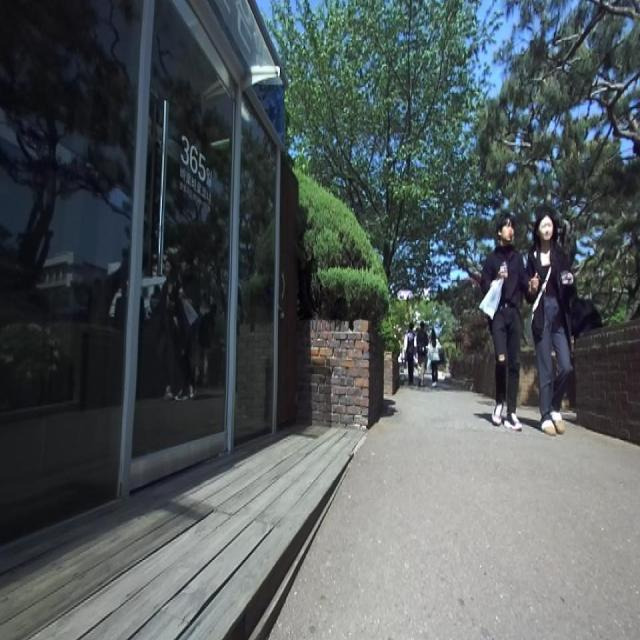sidewalk: (270, 381, 640, 639)
